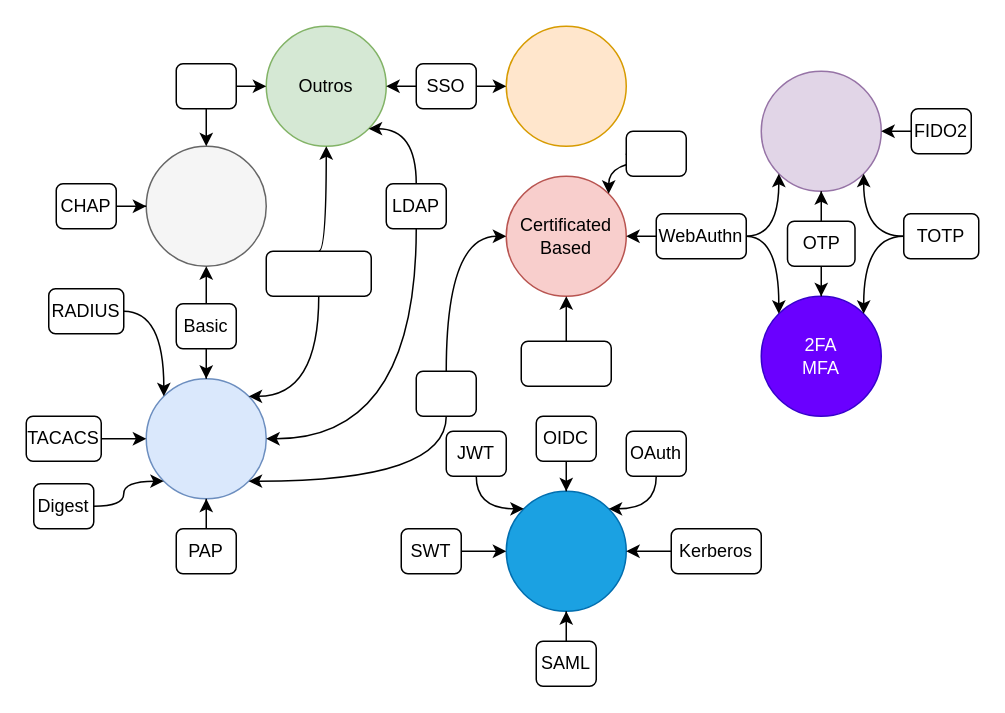
This 1005x713 diagram has some shape labels left out. The shapes that lost their labels are listed below. From the top down, each one's centre as x and y in pixels, then its label:
(205,85): EAP
(565,85): Session Based
(820,130): Passwordless
(655,153): IKE
(205,205): Challenge Based
(318,273): DIAMETER
(565,363): SSL/TLS
(445,393): SSH
(205,438): Password Based
(565,550): Token Based
